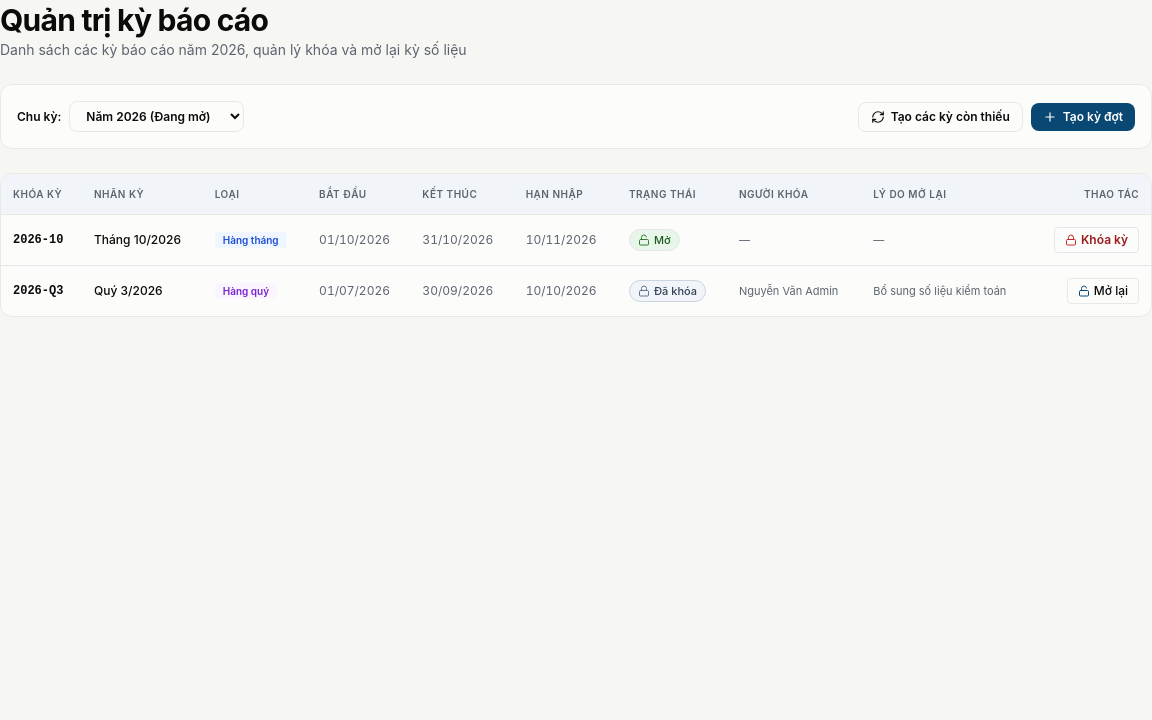
PeriodsView component › displays conflict dialog listing pending submissions when closing period fails with INVALID_STATE
// Click Khóa kỳ on row 2026-10
Click the button "Khóa kỳ". click: (1096, 240)
box: [1054,227,1139,253]
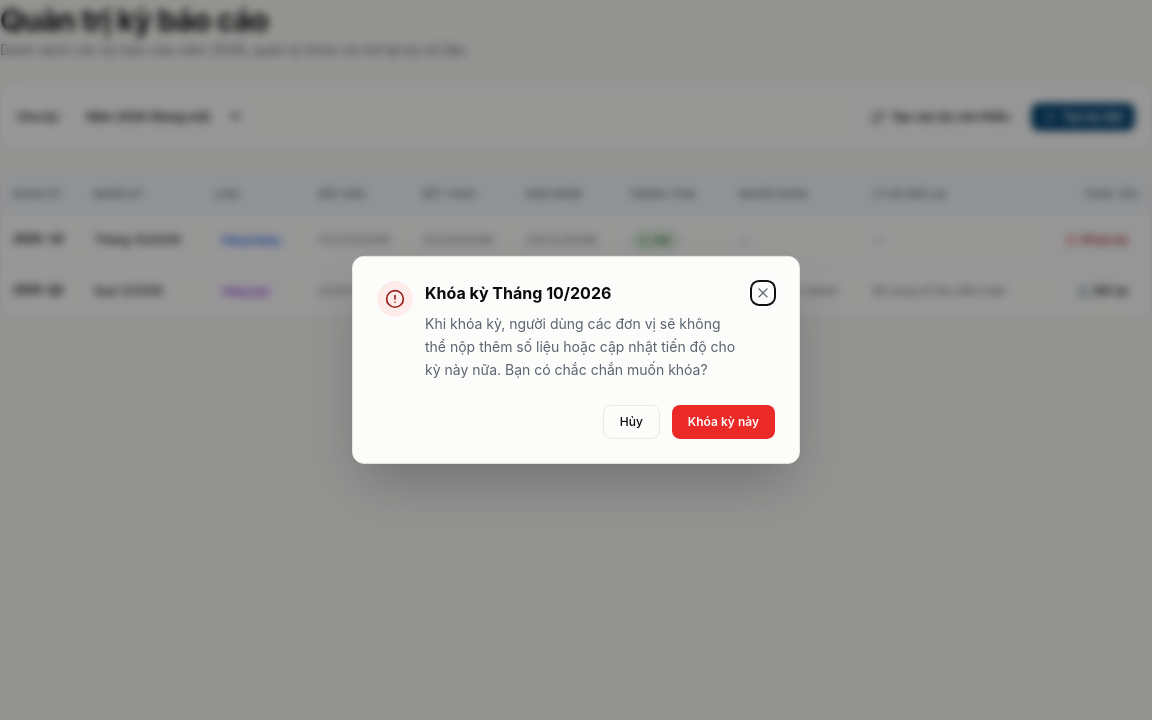
// Confirm dialog appears
Click the button "Khóa kỳ này". click: (723, 422)
box: [672,405,775,439]
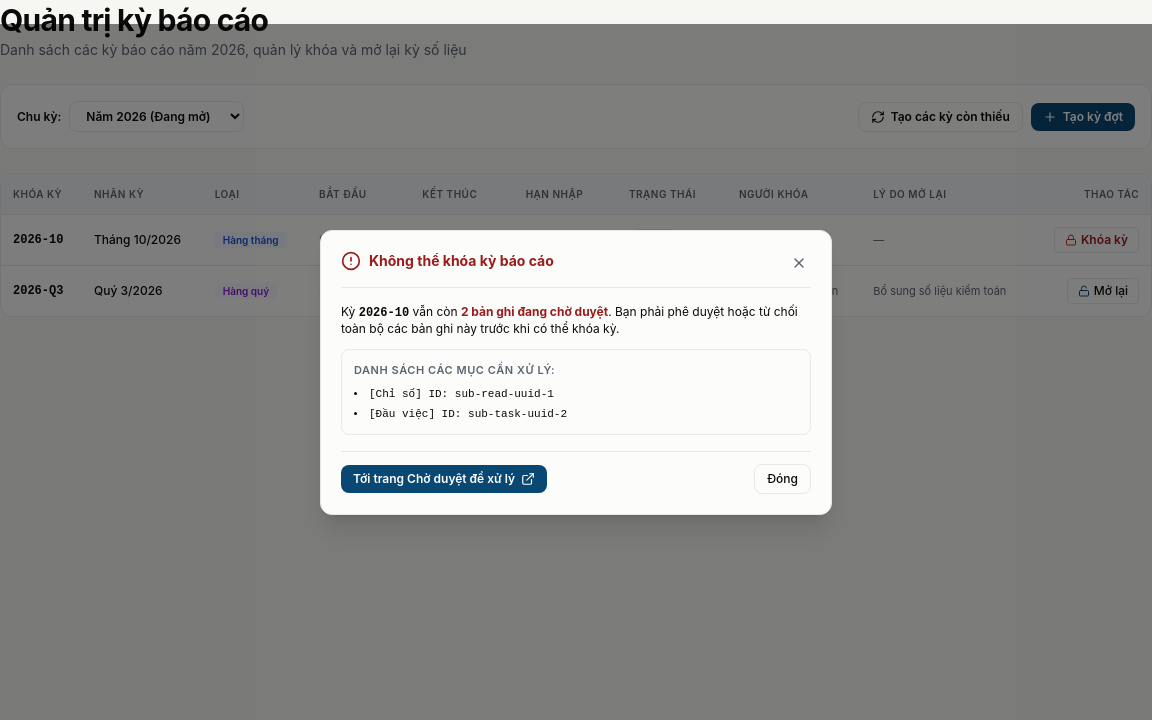
Result: the dialog "Không thể khóa kỳ báo cáo" is shown
Result: the text "2 bản ghi đang chờ duyệt" is shown at [461,304,608,318]
Result: the list item "[Chỉ số] ID: sub-read-uuid-1" is shown at [369,388,554,400]
